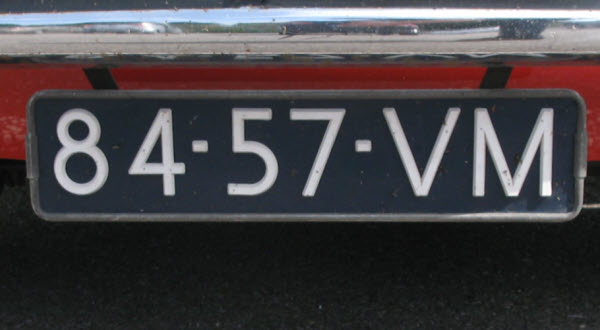license_plate: (26, 90, 586, 222)
